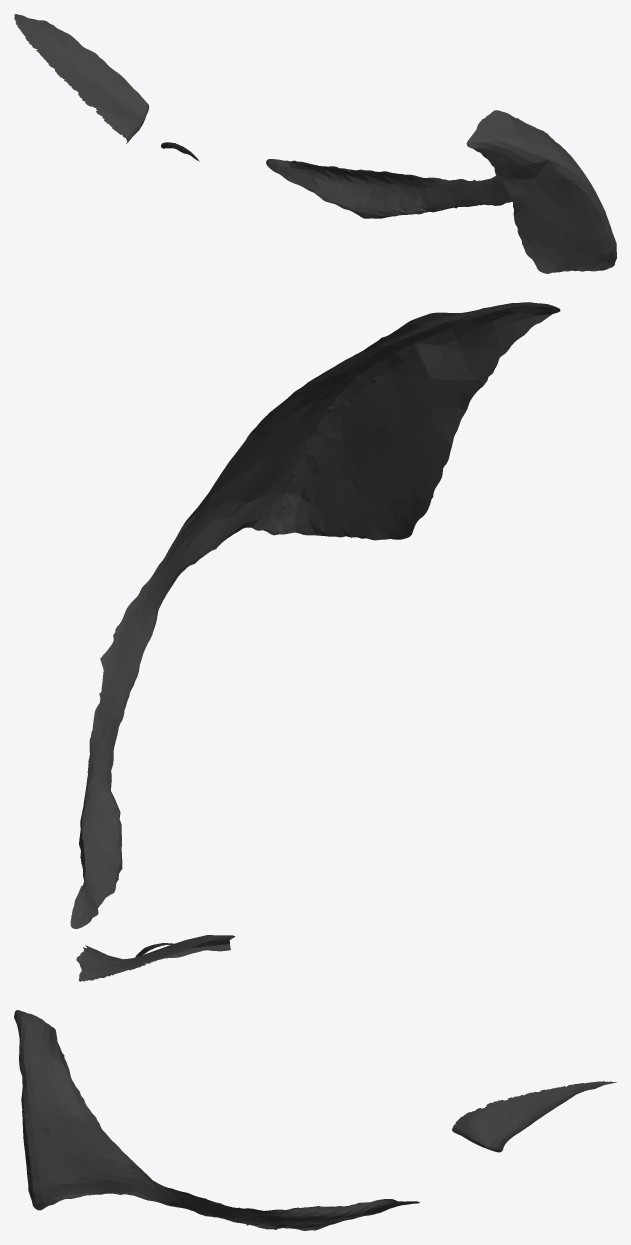
The model's file is musc_brachialis.glb.
3 renders of one model, top to bottom at view 1: azimuth 30°, elevation 25°; view 2: azimuth 150°, elevation 25°; view 3: azimuth 270°, elevation 25°, orthographic. The views are drawn at different scales.
Parts seen in each view (by area): view 1: musc_brachialis; view 2: musc_brachialis; view 3: musc_brachialis.
Part boxes in pixels (<box>): musc_brachialis: <box>14,14,616,273</box>; musc_brachialis: <box>70,302,560,981</box>; musc_brachialis: <box>14,1010,616,1230</box>.
Size of the model in its own units: 0.1235 by 0.1109 by 0.3175.
Materials: 1 (1 with a texture image).
